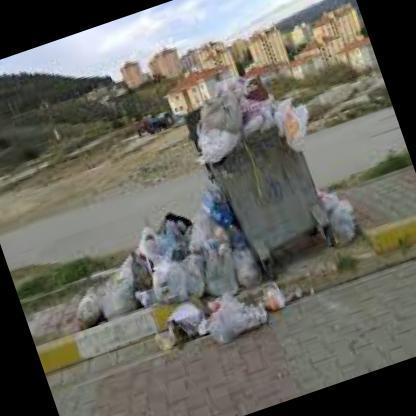Garbage: (70, 212, 248, 336), (188, 61, 307, 162), (232, 56, 327, 172), (158, 190, 234, 302), (181, 88, 255, 167), (124, 237, 184, 309), (140, 291, 212, 349), (202, 290, 267, 354), (325, 182, 360, 243), (65, 282, 110, 328), (262, 276, 300, 319)
